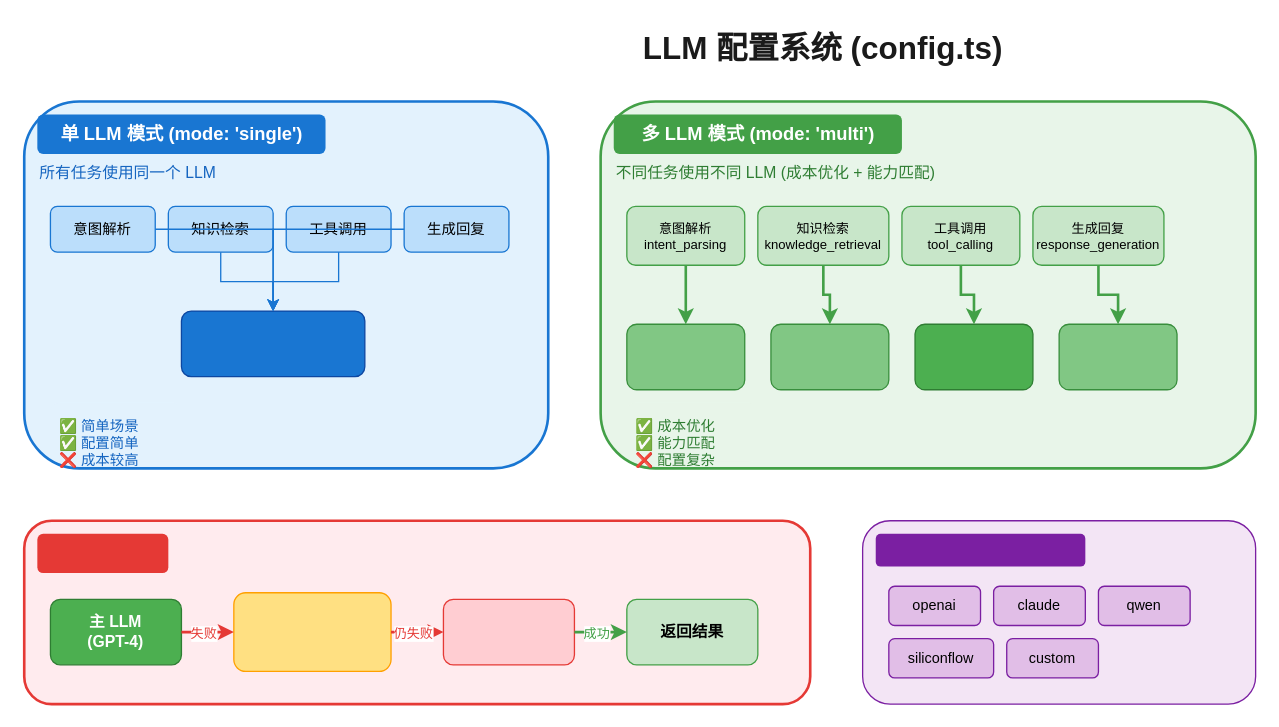
This 1279x727 diagram has some shape labels left out. The box of each missing label's shape, as (x1, y1, x2, y2) in pixels:
Claude 文字优美: (1058, 323, 1177, 390)
Fallback LLM (Claude): (442, 598, 574, 665)
GPT-3.5 便宜快速: (626, 323, 745, 390)
GPT-4: (180, 310, 365, 377)
GPT-4 工具调用强: (914, 323, 1033, 390)
Qwen 国产便宜: (770, 323, 889, 390)
容错机制: (37, 533, 168, 572)
支持的 LLM Providers: (875, 533, 1085, 566)
重试机制 maxRetries: 3 initialDelayMs: 1000: (233, 591, 391, 671)
